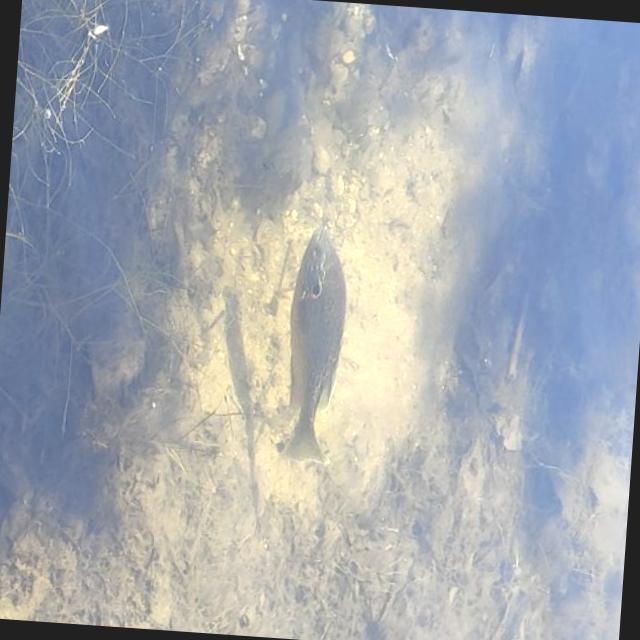Gunes Levregi: (258, 198, 360, 474)
